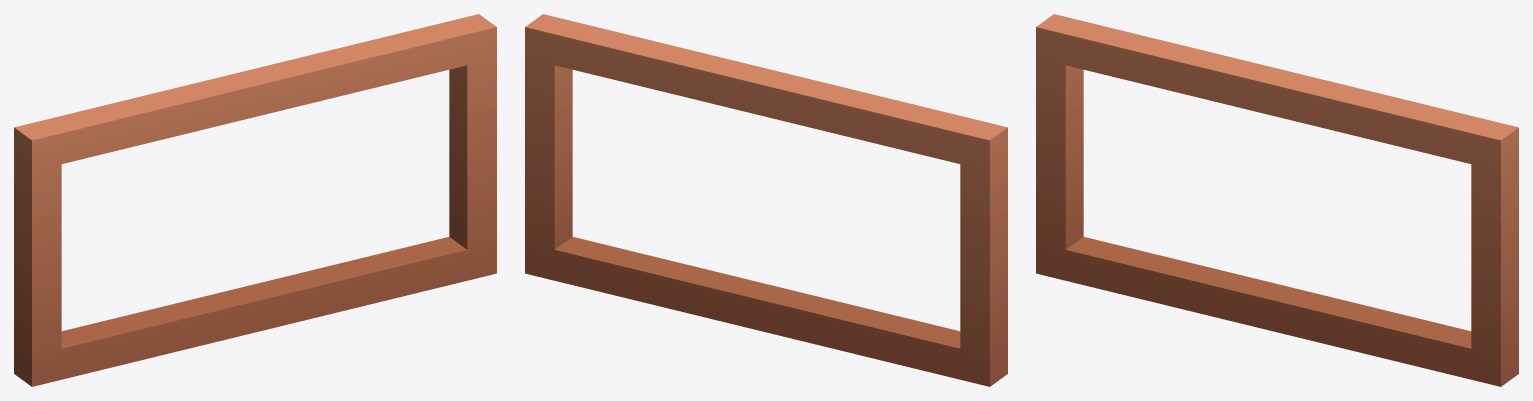
File: window-brown-wide.glb
3 views of the same model, side by side, from view 1: azimuth 30°, elevation 25°; view 2: azimuth 150°, elevation 25°; view 3: azimuth 330°, elevation 25° (orthographic).
Parts seen in each view (by area): view 1: window-brown-wide; view 2: window-brown-wide; view 3: window-brown-wide.
Boxes of the visible parts, x1=… form: window-brown-wide: x1=14, y1=14, x2=496, y2=386; window-brown-wide: x1=525, y1=14, x2=1007, y2=386; window-brown-wide: x1=1036, y1=14, x2=1518, y2=386.
Bounding box in the file's own units: 0.75 × 0.38 × 0.05.
1 material, 1 textured.
